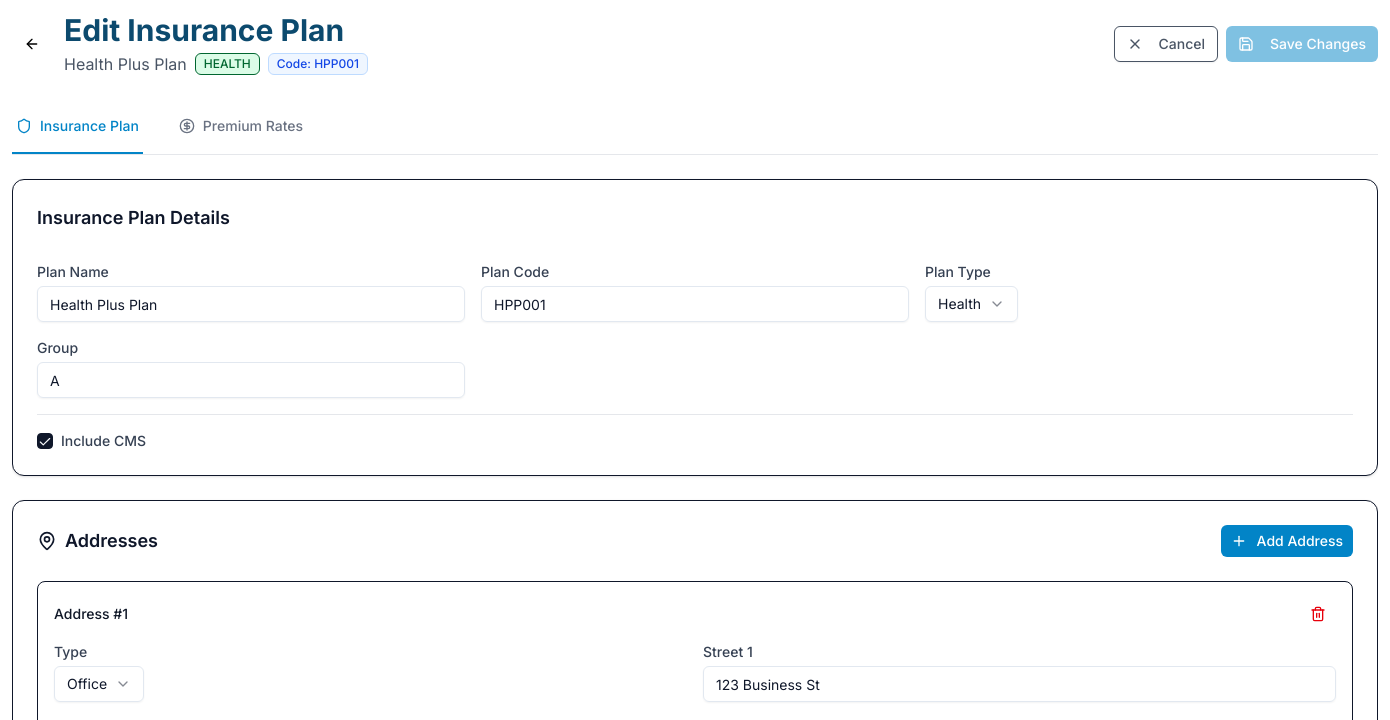
Test case: InsurancePlanDetailPage › Save Functionality › should show error message when save fails
// Make a change and save
Replace the text in the field showing "Health Plus Plan" with "Premium Health Plan". click: (251, 304)
box: [37,286,465,322]
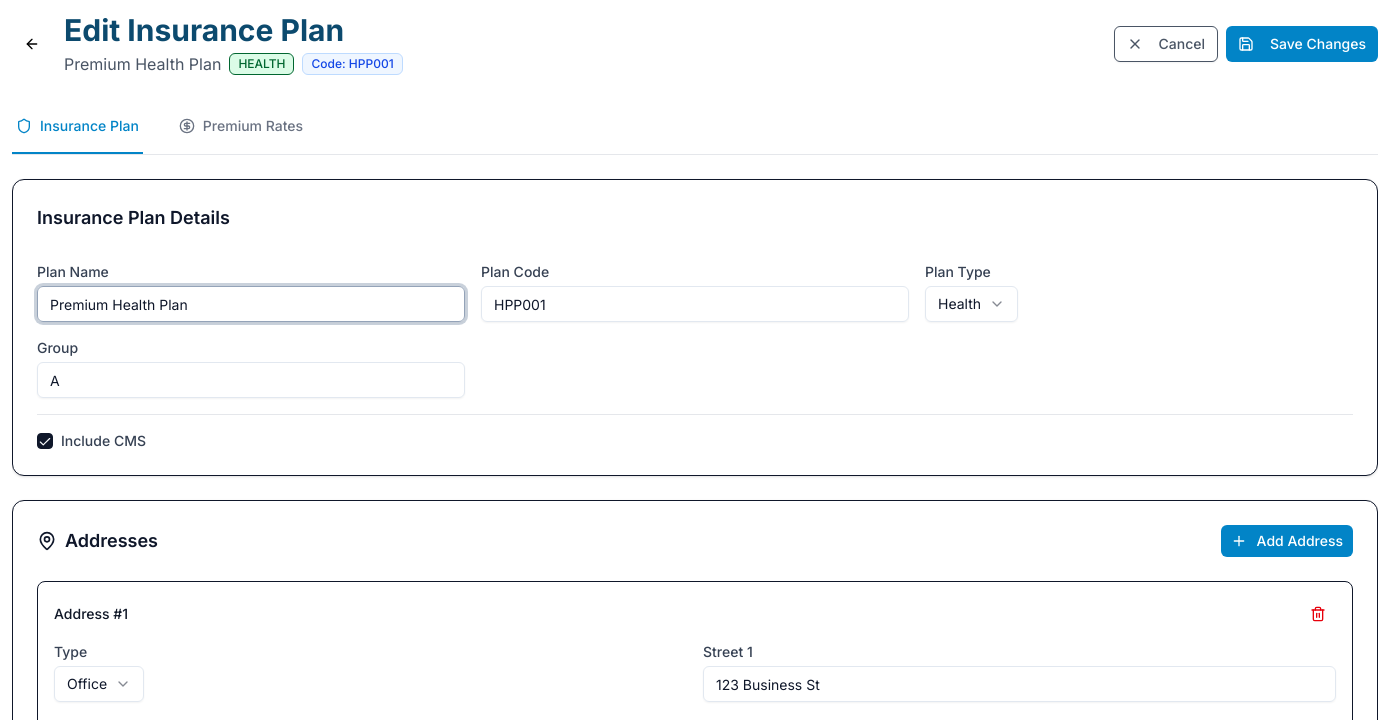
Check: the button "Save Changes" is enabled
Click the button "Save Changes". click: (1302, 44)
box: [1226,26,1378,62]
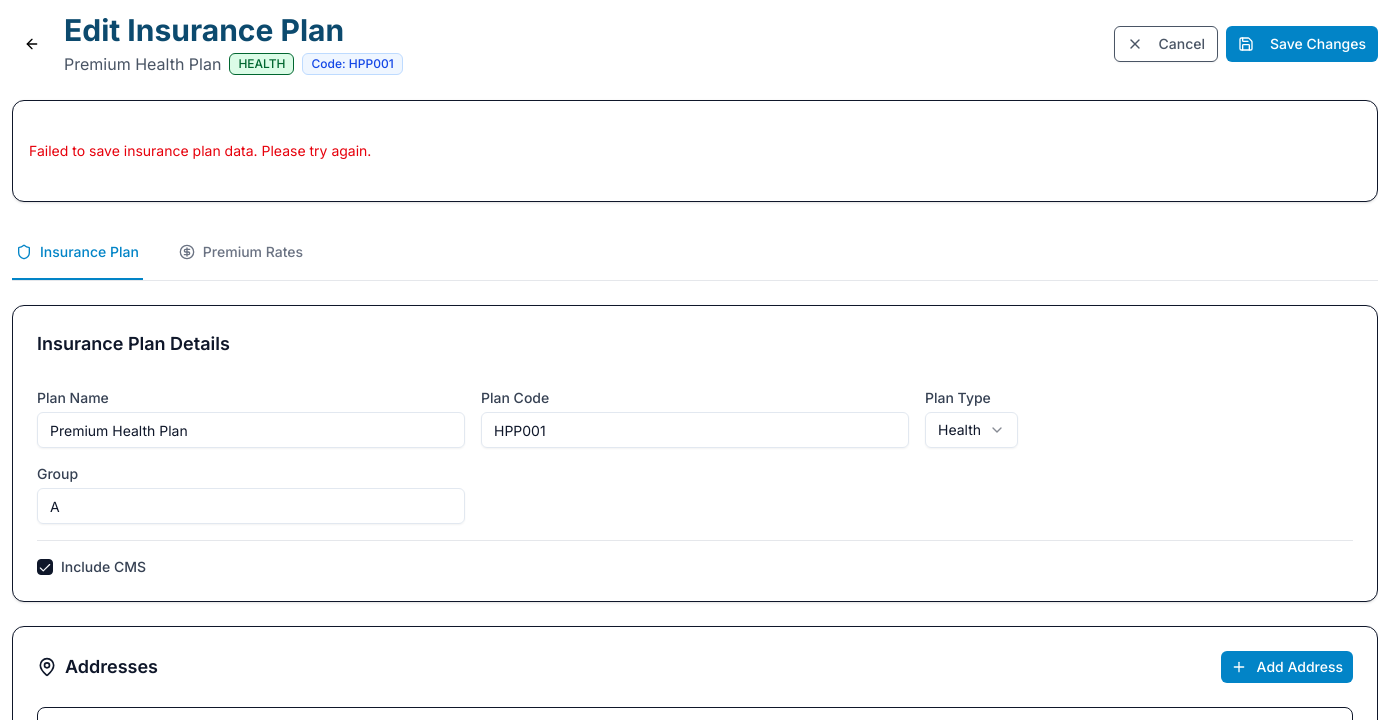
Check: the text "Failed to save insurance plan data. Please try again." is shown, box [29,142,371,159]
